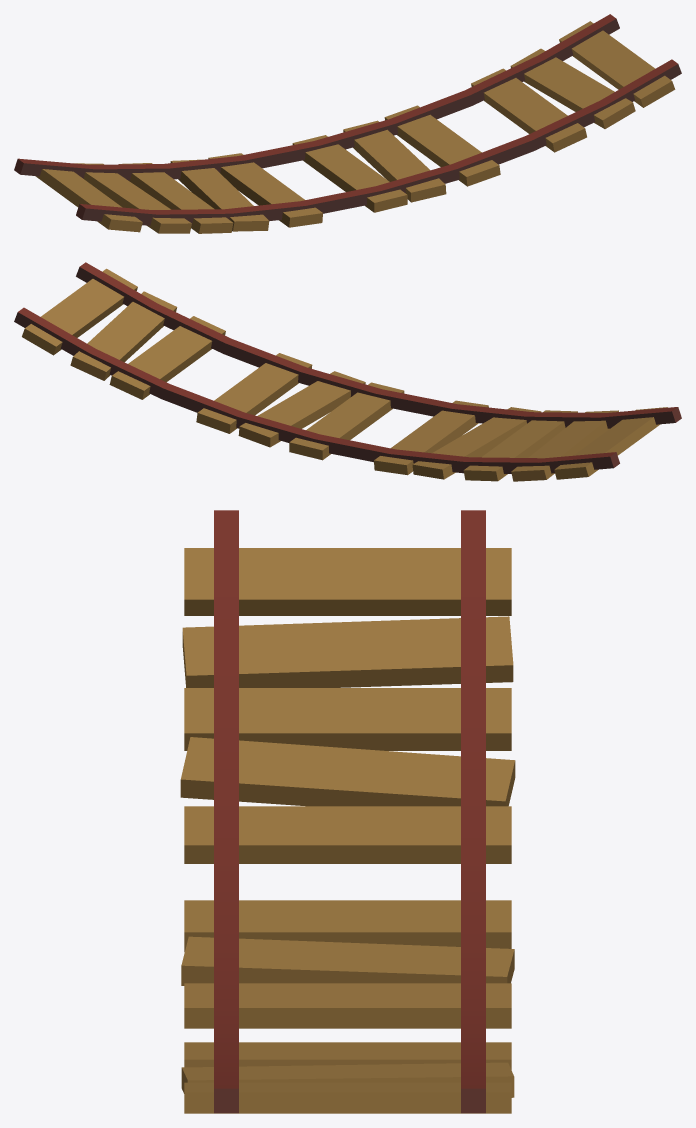
The model's file is ST_Env_Bridge_Rope_01.fbx.
3 views of the same model, one above another, from view 1: azimuth 30°, elevation 25°; view 2: azimuth 150°, elevation 25°; view 3: azimuth 270°, elevation 25° (orthographic). The views are drawn at different scales.
Visible parts, largest first — view 1: ST_Env_Bridge_Rope_01; view 2: ST_Env_Bridge_Rope_01; view 3: ST_Env_Bridge_Rope_01.
Part boxes in pixels (x1=…): ST_Env_Bridge_Rope_01: x1=14, y1=14, x2=681, y2=233; ST_Env_Bridge_Rope_01: x1=14, y1=262, x2=681, y2=481; ST_Env_Bridge_Rope_01: x1=180, y1=510, x2=515, y2=1113.
Bounding box in the file's own units: 10.29 × 1.11 × 2.48.
